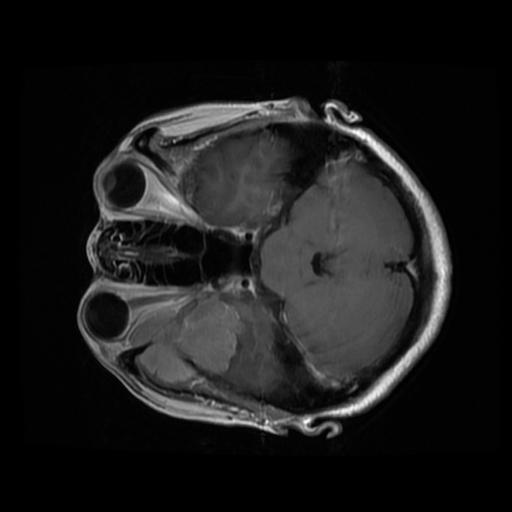meningioma: (128, 296, 242, 388)
